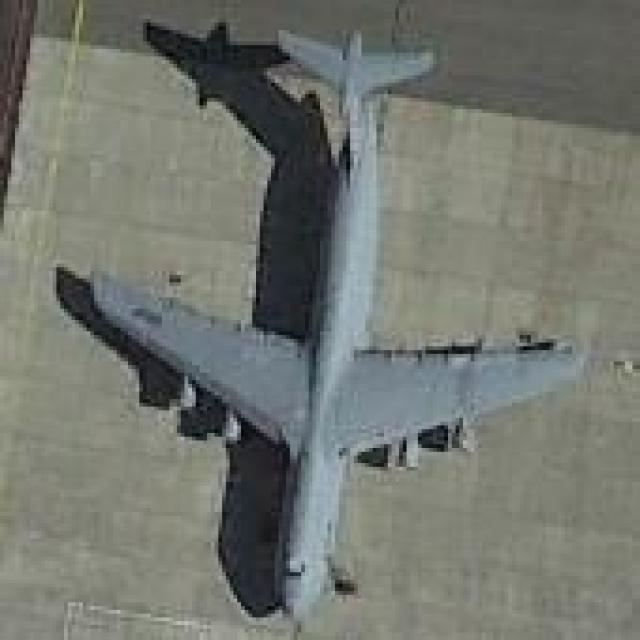C-5_TopDown: (53, 14, 589, 636)
